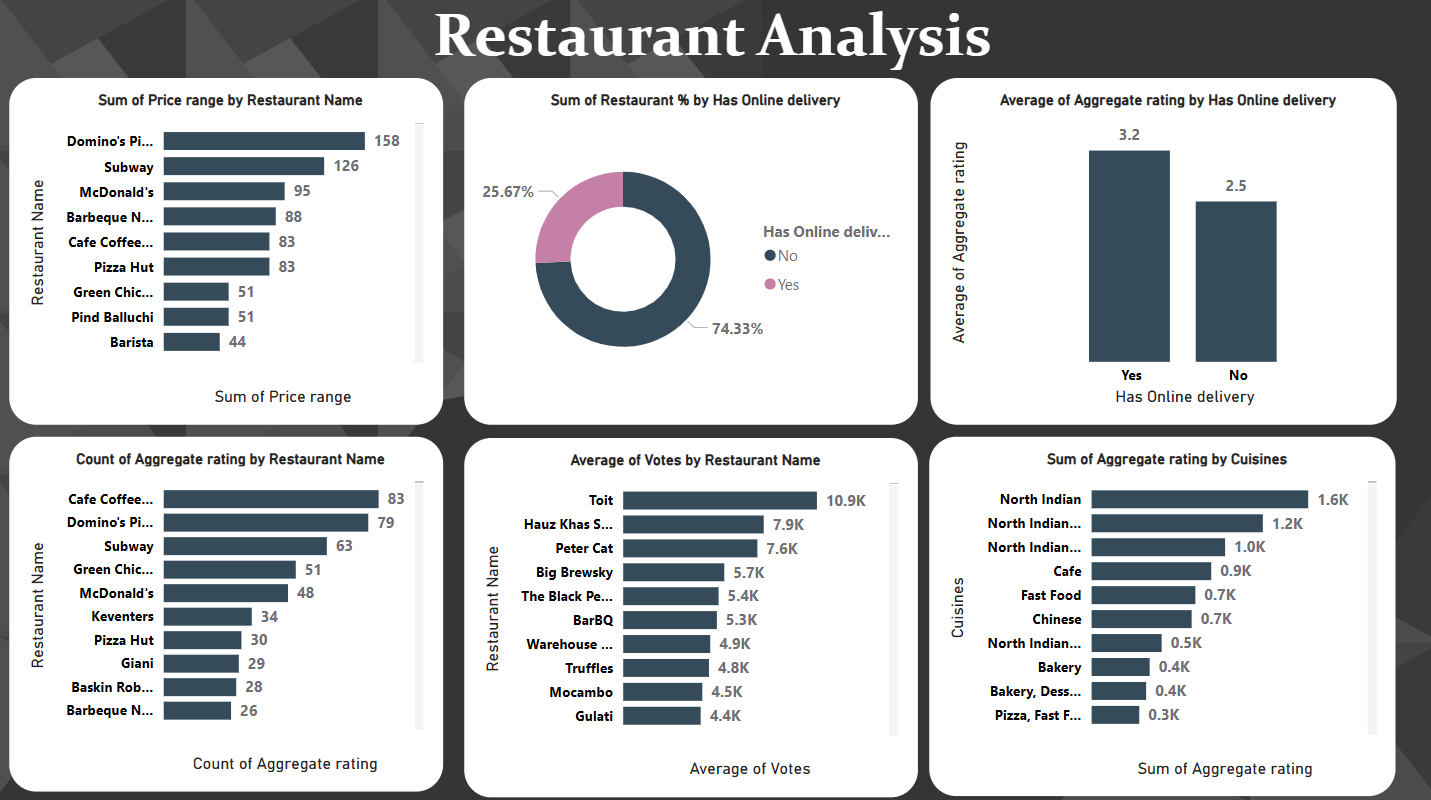

The dashboard page shown, as its layout file describes it:
{"tool":"powerbi","page":{"name":"Page 2","canvas":[1280,720],"ordinal":2},"visuals":[{"type":"textbox","box":[9.7,0,1252.3,76],"z":0},{"type":"clusteredBarChart","fields":{"Category":["Dataset.Restaurant Name"],"Y":["Sum(Dataset.Price range)"]},"box":[9.7,76,386.1,308.8],"z":1000},{"type":"donutChart","fields":{"Y":["Sum(Dataset.Restaurant %)"],"Category":["Dataset.Has Online delivery"]},"box":[415,76,404.2,308.8],"z":2000},{"type":"columnChart","fields":{"Y":["Avg(Dataset.Aggregate rating)"],"Category":["Dataset.Has Online delivery"]},"box":[830,76.2,415,308.8],"z":3000},{"type":"clusteredBarChart","fields":{"Category":["Dataset.Restaurant Name"],"Y":["CountNonNull(Dataset.Aggregate rating)"]},"box":[9.7,395.7,386.1,316.1],"z":4000},{"type":"clusteredBarChart","fields":{"Category":["Dataset.Restaurant Name"],"Y":["Avg(Dataset.Votes)"]},"box":[415,396.2,403.8,320],"z":5000},{"type":"clusteredBarChart","fields":{"Y":["Sum(Dataset.Aggregate rating)"],"Category":["Dataset.Cuisines"]},"box":[829.6,395.3,415.5,320.3],"z":6000}]}

Visuals, with their boxes in screenshot pixels (x1, y1, x2, y2), scaled from the page's 1280x720 canvas onto the 1431x800 screenshot:
textbox: 11 0 1411 84
clusteredBarChart - Dataset.Restaurant Name x Sum(Dataset.Price range): 11 84 442 428
donutChart - Sum(Dataset.Restaurant %) x Dataset.Has Online delivery: 464 84 916 428
columnChart - Avg(Dataset.Aggregate rating) x Dataset.Has Online delivery: 928 85 1392 428
clusteredBarChart - Dataset.Restaurant Name x CountNonNull(Dataset.Aggregate rating): 11 440 442 791
clusteredBarChart - Dataset.Restaurant Name x Avg(Dataset.Votes): 464 440 915 796
clusteredBarChart - Sum(Dataset.Aggregate rating) x Dataset.Cuisines: 927 439 1392 795
